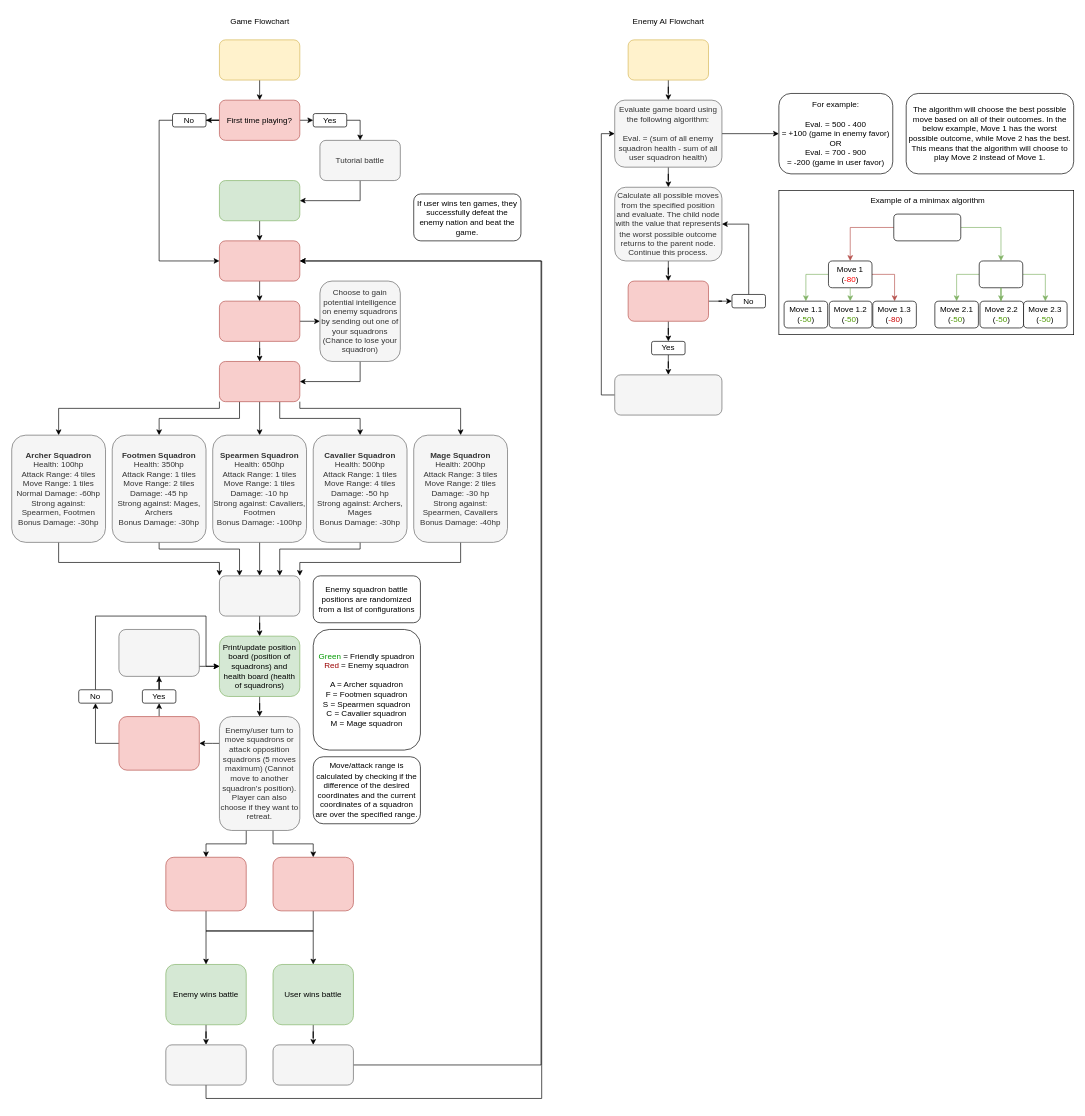
Image size: 1085x1116. Some labels were removed from this diagram. The box of each missing label's shape, as (x1, y1, x2, y2) in pixels:
Are there opposition squadrons left on the board?: (272, 857, 353, 911)
Battle: (219, 300, 300, 341)
Choose name of nation and difficulty: (219, 180, 300, 221)
Choose squadron positions in battle (input coordinates): (219, 575, 300, 616)
Choose squadrons for battle: (219, 361, 300, 402)
Current position (-50): (893, 213, 961, 241)
Has the algorithm reached its depth?: (627, 280, 709, 321)
Is opposition squadron under or equal to 0 health?: (118, 716, 199, 770)
Move 2 ( -50 ): (979, 260, 1023, 288)
Next game difficulty slightly more difficult: (272, 1044, 353, 1085)
Next game difficulty the same: (165, 1044, 246, 1085)
Play move with the best possible outcome.: (614, 374, 722, 415)
Retreat?: (165, 857, 246, 911)
Squadron ceases to exist - is removed from boards and future battle selection: (118, 629, 199, 676)
Start battle: (627, 39, 709, 80)
Start game: (219, 39, 300, 80)
Train new squadrons (Maximum amount is amount lost in prev. battle): (219, 240, 300, 281)
